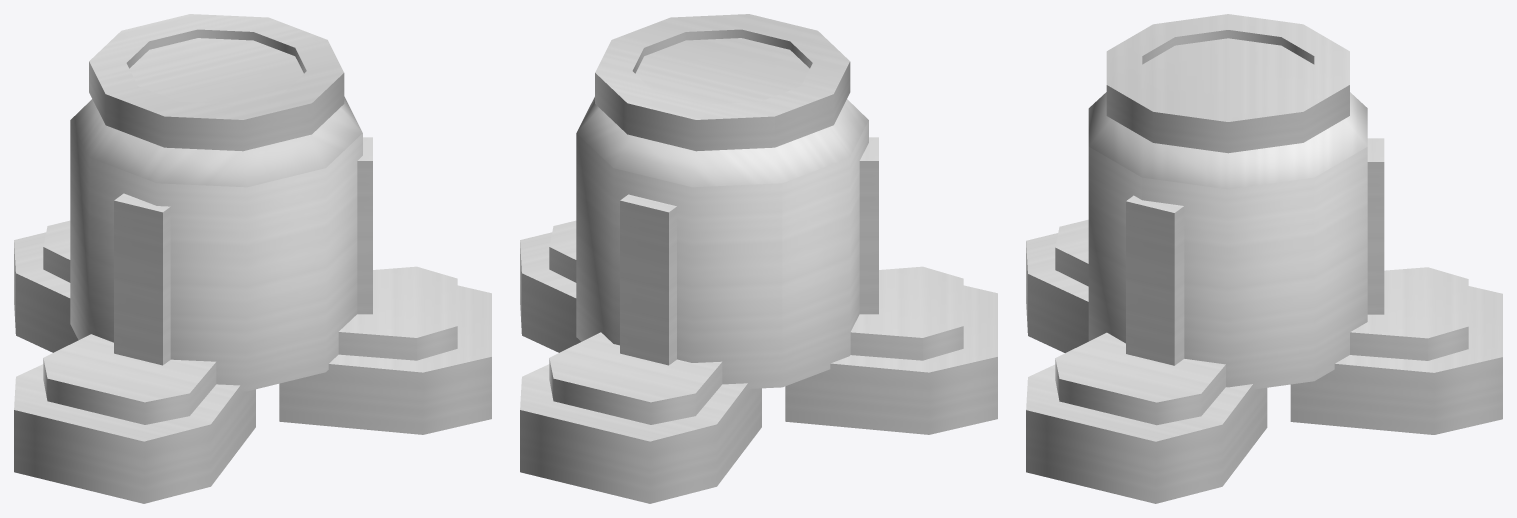
The model's file is pollution_pump.obj.
3 views of the same model, side by side, from view 1: azimuth 30°, elevation 25°; view 2: azimuth 150°, elevation 25°; view 3: azimuth 270°, elevation 25° (orthographic).
Parts seen in each view (by area): view 1: source_component_006, source_component_007, source_component_002, source_component_004, source_component_003, source_component_010, source_component_008, source_component_005, source_component_000, source_component_011, source_component_001; view 2: source_component_006, source_component_007, source_component_000, source_component_002, source_component_001, source_component_009, source_component_008, source_component_003, source_component_004, source_component_010, source_component_005; view 3: source_component_006, source_component_004, source_component_007, source_component_000, source_component_005, source_component_011, source_component_008, source_component_001, source_component_002, source_component_009, source_component_003.
Part boxes in pixels (x1=…): source_component_006: x1=70, y1=96, x2=362, y2=391; source_component_007: x1=89, y1=14, x2=344, y2=151; source_component_002: x1=14, y1=364, x2=255, y2=503; source_component_004: x1=279, y1=285, x2=491, y2=434; source_component_003: x1=43, y1=334, x2=216, y2=424; source_component_010: x1=114, y1=193, x2=170, y2=365; source_component_008: x1=129, y1=38, x2=303, y2=104; source_component_005: x1=338, y1=266, x2=457, y2=360; source_component_000: x1=14, y1=232, x2=78, y2=352; source_component_011: x1=357, y1=137, x2=372, y2=314; source_component_001: x1=43, y1=220, x2=70, y2=282; source_component_006: x1=576, y1=97, x2=868, y2=388; source_component_007: x1=595, y1=14, x2=850, y2=151; source_component_000: x1=520, y1=364, x2=761, y2=503; source_component_002: x1=785, y1=285, x2=997, y2=434; source_component_001: x1=549, y1=332, x2=722, y2=424; source_component_009: x1=620, y1=194, x2=676, y2=365; source_component_008: x1=635, y1=38, x2=809, y2=104; source_component_003: x1=850, y1=266, x2=963, y2=360; source_component_004: x1=520, y1=232, x2=580, y2=352; source_component_010: x1=859, y1=137, x2=878, y2=314; source_component_005: x1=549, y1=220, x2=576, y2=282; source_component_006: x1=1088, y1=92, x2=1367, y2=389; source_component_004: x1=1026, y1=364, x2=1267, y2=503; source_component_007: x1=1106, y1=14, x2=1349, y2=153; source_component_000: x1=1290, y1=286, x2=1502, y2=434; source_component_005: x1=1055, y1=332, x2=1225, y2=425; source_component_011: x1=1126, y1=195, x2=1184, y2=365; source_component_008: x1=1142, y1=38, x2=1314, y2=106; source_component_001: x1=1350, y1=267, x2=1468, y2=360; source_component_002: x1=1026, y1=233, x2=1088, y2=352; source_component_009: x1=1367, y1=138, x2=1384, y2=314; source_component_003: x1=1055, y1=219, x2=1088, y2=286.
Bounding box in the file's own units: 0.8821 × 0.565 × 0.7639.
